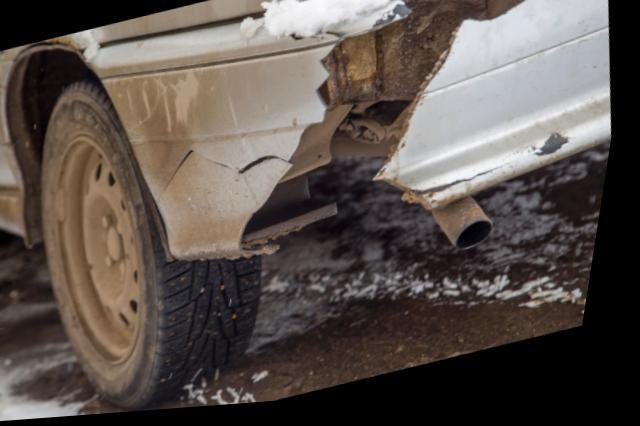crack: (423, 169, 520, 201)
no part: (162, 0, 540, 258)
